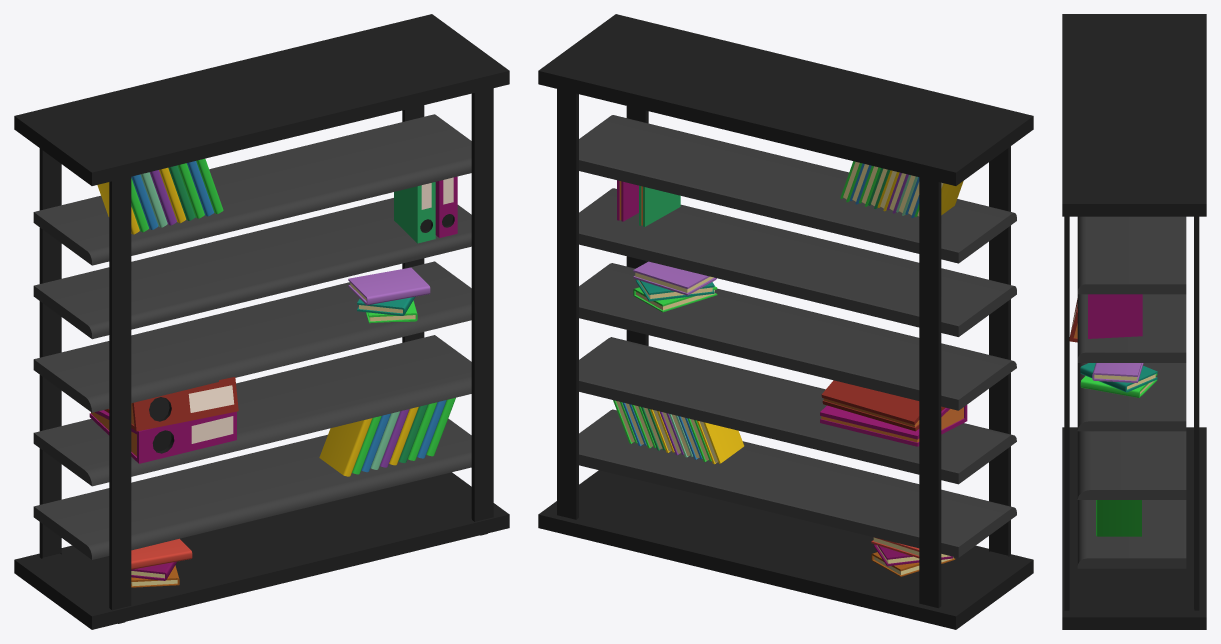
The model's file is Boss-Room-Bookshelf.fbx.
3 views of the same model, side by side, from view 1: azimuth 30°, elevation 25°; view 2: azimuth 150°, elevation 25°; view 3: azimuth 270°, elevation 25° (orthographic). The views are drawn at different scales.
Parts seen in each view (by area): view 1: Boss-Room-Bookshelf, File.086, File.087, Book-2.132, File.089, Book-2.133, File.088, Book-2.145, Book-2.131; view 2: Boss-Room-Bookshelf, File.087, File.086, Book-2.132, Book-2.133, File.089, File.088, Book-2.131, Book-2.130; view 3: Boss-Room-Bookshelf, File.088, Book-2.142, Book-2.132, Book-2.131, Book-2.130, File.087.
Part boxes in pixels (box(x1,y1,x2,y2)): Boss-Room-Bookshelf: box(14, 14, 509, 629); File.086: box(89, 410, 236, 463); File.087: box(104, 377, 238, 431); Book-2.132: box(348, 267, 430, 305); File.089: box(394, 182, 435, 243); Book-2.133: box(319, 418, 372, 476); File.088: box(435, 176, 457, 237); Book-2.145: box(131, 538, 192, 569); Book-2.131: box(357, 296, 415, 315); Boss-Room-Bookshelf: box(538, 14, 1033, 629); File.087: box(821, 380, 945, 431); File.086: box(820, 405, 967, 446); Book-2.132: box(633, 261, 716, 295); Book-2.133: box(697, 420, 744, 464); File.089: box(639, 185, 680, 226); File.088: box(617, 180, 638, 221); Book-2.131: box(635, 279, 714, 301); Book-2.130: box(633, 286, 717, 312); Boss-Room-Bookshelf: box(1062, 14, 1206, 629); File.088: box(1088, 294, 1142, 338); Book-2.142: box(1096, 500, 1141, 536); Book-2.132: box(1092, 363, 1143, 382); Book-2.131: box(1080, 363, 1157, 392); Book-2.130: box(1080, 373, 1157, 397); File.087: box(1069, 298, 1077, 342).
Bounding box in the file's own units: 1.67 × 1.75 × 0.5354.
